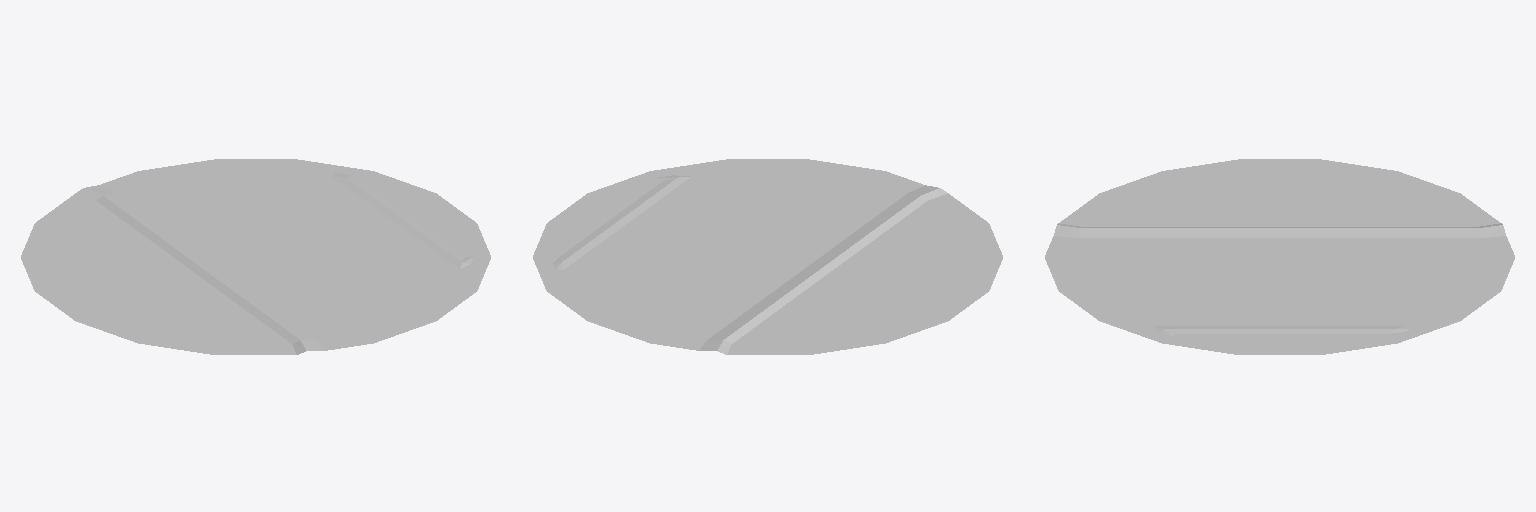
The model's file is Carpet_Round.obj.
The picture shows the model from 3 angles: view 1: azimuth 30°, elevation 25°; view 2: azimuth 150°, elevation 25°; view 3: azimuth 270°, elevation 25°; orthographic projection.
Visible parts, largest first — view 1: Carpet_Round; view 2: Carpet_Round; view 3: Carpet_Round.
Boxes of the visible parts, <box> form: Carpet_Round: <box>21,159,490,354</box>; Carpet_Round: <box>533,159,1002,354</box>; Carpet_Round: <box>1045,159,1514,354</box>.
Size of the model in its own units: 2.49 by 0.0157 by 2.53.